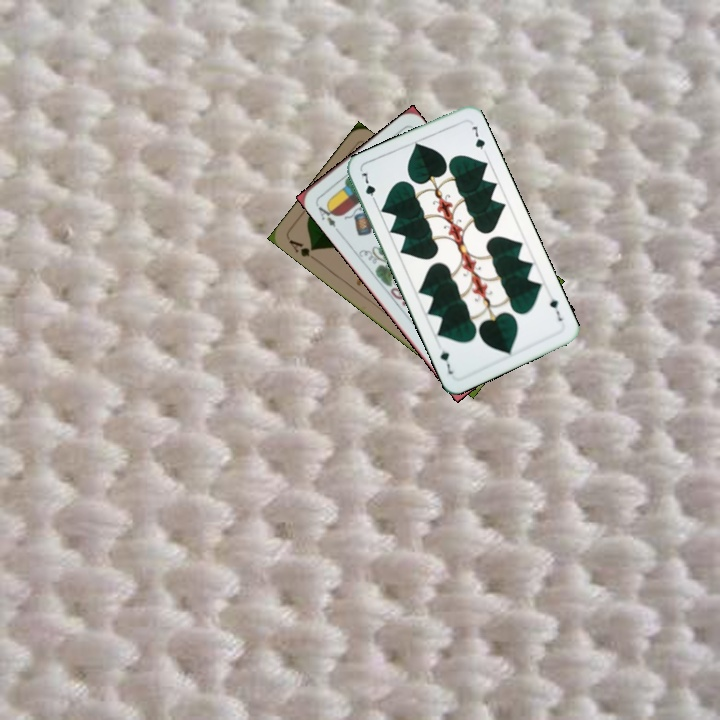EA: (313, 200, 342, 235)
G7: (357, 168, 379, 207), (545, 294, 565, 324)
GA: (285, 235, 321, 264)
